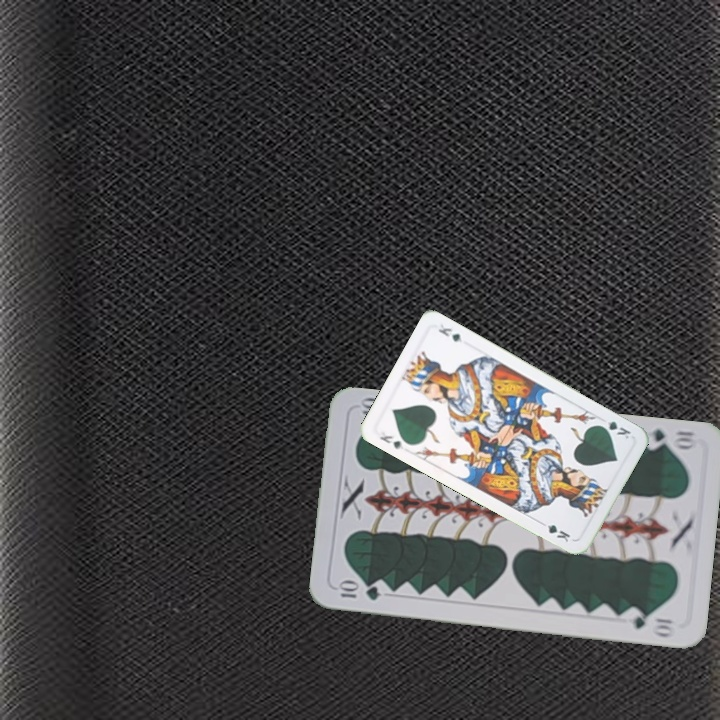G10: (639, 425, 699, 453), (333, 579, 382, 603)
GK: (594, 416, 633, 443), (376, 431, 407, 452)
